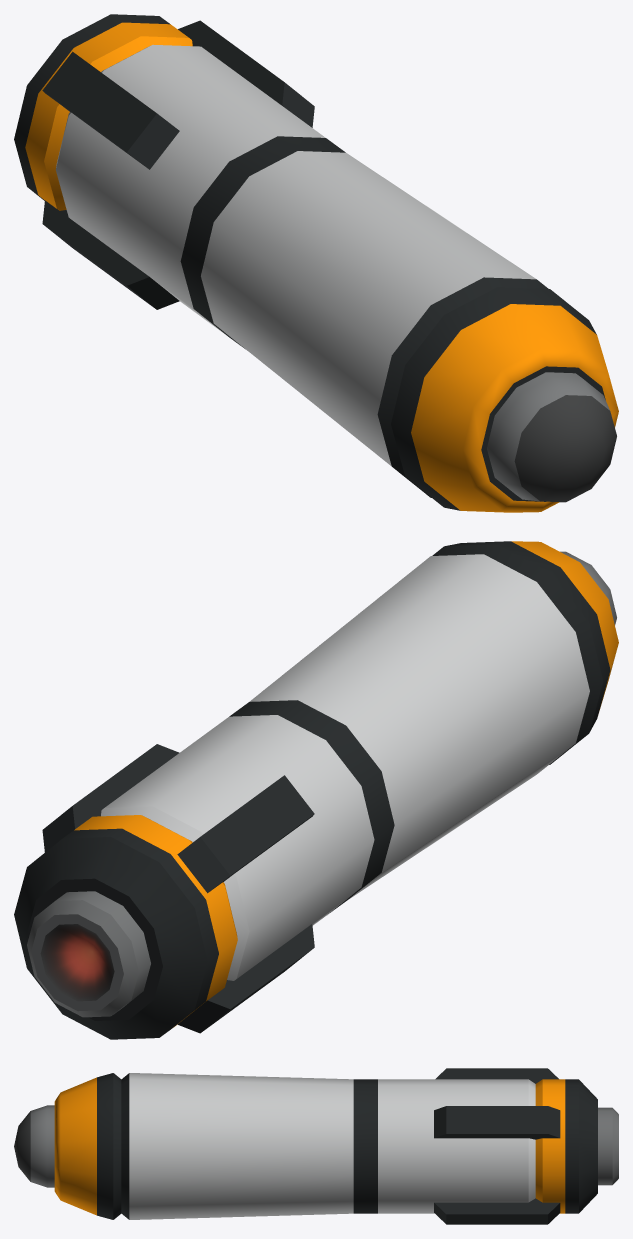
Rendered from Missile_001.fbx.
3 renders of one model, top to bottom at view 1: azimuth 30°, elevation 25°; view 2: azimuth 150°, elevation 25°; view 3: azimuth 270°, elevation 25°, orthographic. The views are drawn at different scales.
Parts seen in each view (by area): view 1: Missile_001; view 2: Missile_001; view 3: Missile_001.
Boxes of the visible parts, x1=… form: Missile_001: x1=14, y1=14, x2=618, y2=512; Missile_001: x1=14, y1=541, x2=618, y2=1039; Missile_001: x1=14, y1=1068, x2=618, y2=1224.
Size of the model in its own units: 19.21 by 78.64 by 19.21.
